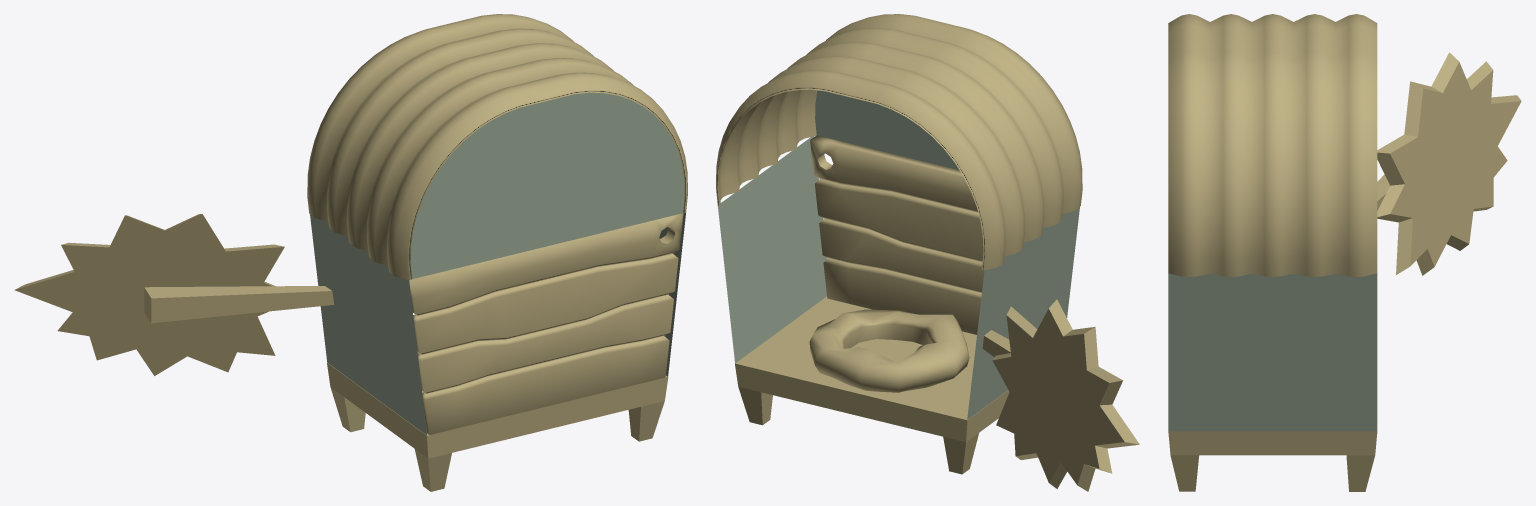
Rendered from Tienda aleatoria.fbx.
3 views of the same model, side by side, from view 1: azimuth 30°, elevation 25°; view 2: azimuth 150°, elevation 25°; view 3: azimuth 270°, elevation 25° (orthographic). The views are drawn at different scales.
Visible parts, largest first — view 1: polySurface25, polySurface26, pPlane2, polySurface35, polySurface32, polySurface34, polySurface27, polySurface31, polySurface33, pasted__Gallinero_3; view 2: polySurface25, pPlane2, polySurface37, polySurface27, polySurface39, polySurface35, polySurface32, polySurface31, polySurface34, polySurface33, polySurface26, pasted__Gallinero_3; view 3: polySurface25, polySurface37, pPlane2, polySurface27.
Boxes of the visible parts, box(x1,y1,x2,y2) form: polySurface25: box(307, 14, 687, 280); polySurface26: box(410, 92, 684, 279); pPlane2: box(14, 214, 284, 375); polySurface35: box(310, 214, 426, 435); polySurface32: box(413, 253, 678, 354); polySurface34: box(422, 336, 669, 434); polySurface27: box(327, 362, 668, 491); polySurface31: box(409, 213, 683, 315); polySurface33: box(417, 294, 673, 393); pasted__Gallinero_3: box(144, 286, 334, 323); polySurface25: box(716, 14, 1082, 270); pPlane2: box(992, 299, 1139, 491); polySurface37: box(717, 136, 827, 363); polySurface27: box(735, 296, 1009, 474); polySurface39: box(809, 309, 969, 392); polySurface35: box(967, 207, 1079, 419); polySurface32: box(815, 179, 983, 261); polySurface31: box(810, 135, 977, 212); polySurface34: box(823, 258, 981, 334); polySurface33: box(819, 218, 984, 292); polySurface26: box(815, 90, 958, 169); pasted__Gallinero_3: box(982, 330, 1010, 356); polySurface25: box(1168, 14, 1377, 276); polySurface37: box(1168, 273, 1377, 431); pPlane2: box(1377, 52, 1521, 275); polySurface27: box(1168, 431, 1377, 491).
Size of the model in its own units: 67.9 by 47.83 by 38.61.
